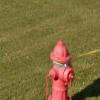Hydrant: (32, 30, 95, 100)
